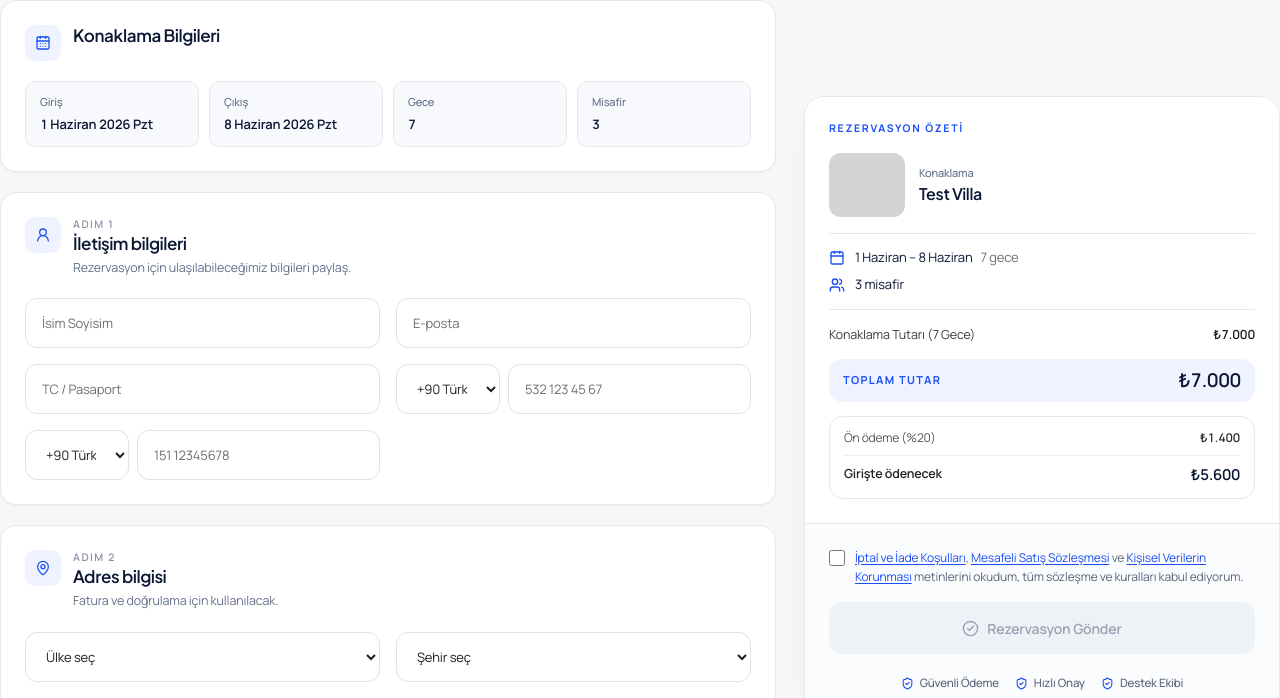
Test: 4) Hata mesajı — MEVCUT inline banner kullanılır › 4d) onay verilince uyarı kendiliğinden kalkar
Step 1. Type "Ahmet Yılmaz" into the field with placeholder "İsim Soyisim" → (202, 323), box [25,298,380,348]
Step 2. Type "test@example.com" into the field with placeholder "E-posta" → (574, 323), box [396,298,751,348]
Step 3. Type "5551112233" into the field with placeholder "532 123 45 67" → (630, 389), box [508,364,751,414]
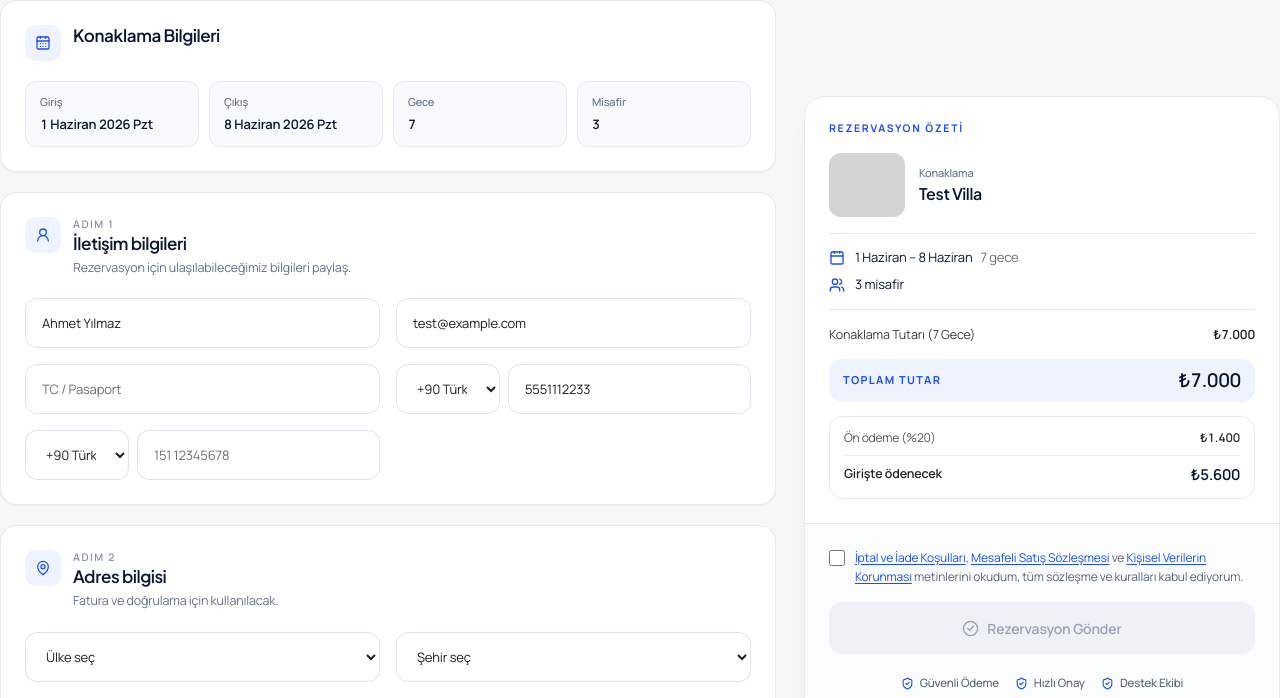
Step 4. Type "5559998877" into the field with placeholder "151 12345678" → (258, 455), box [137,430,380,480]
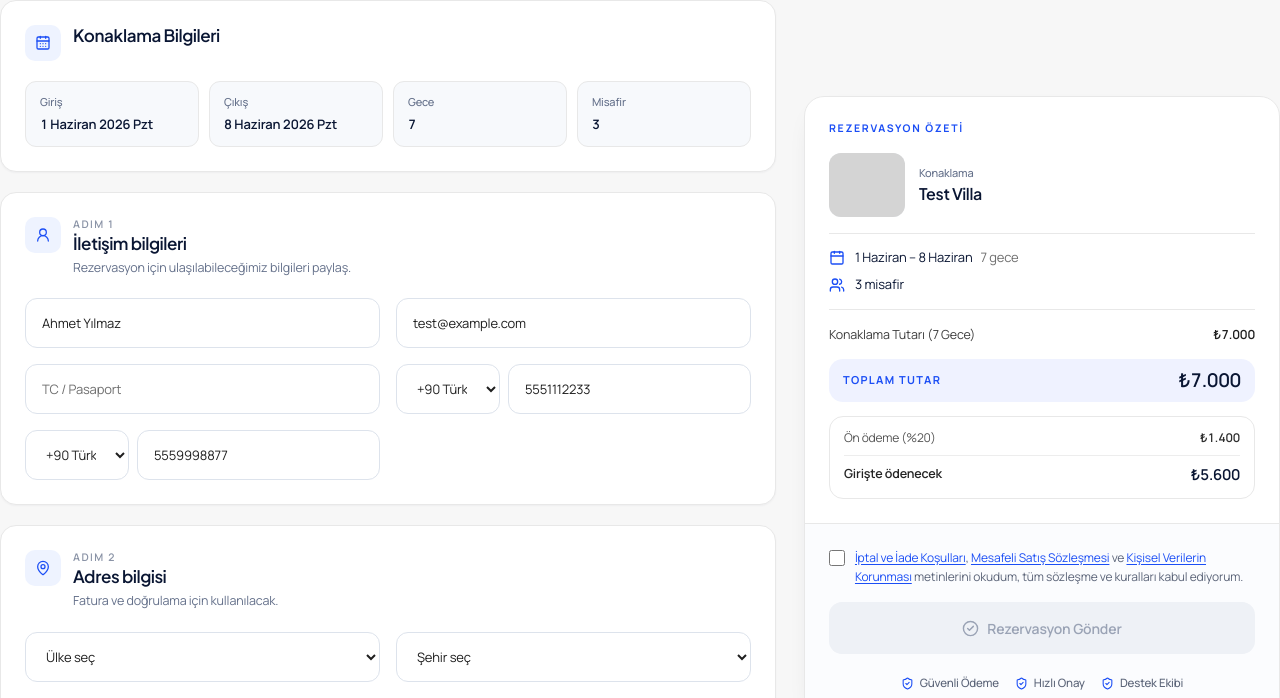
Step 5. Type "12345678901" into the field with placeholder "TC / Pasaport" → (202, 389), box [25,364,380,414]
(page scrolled)
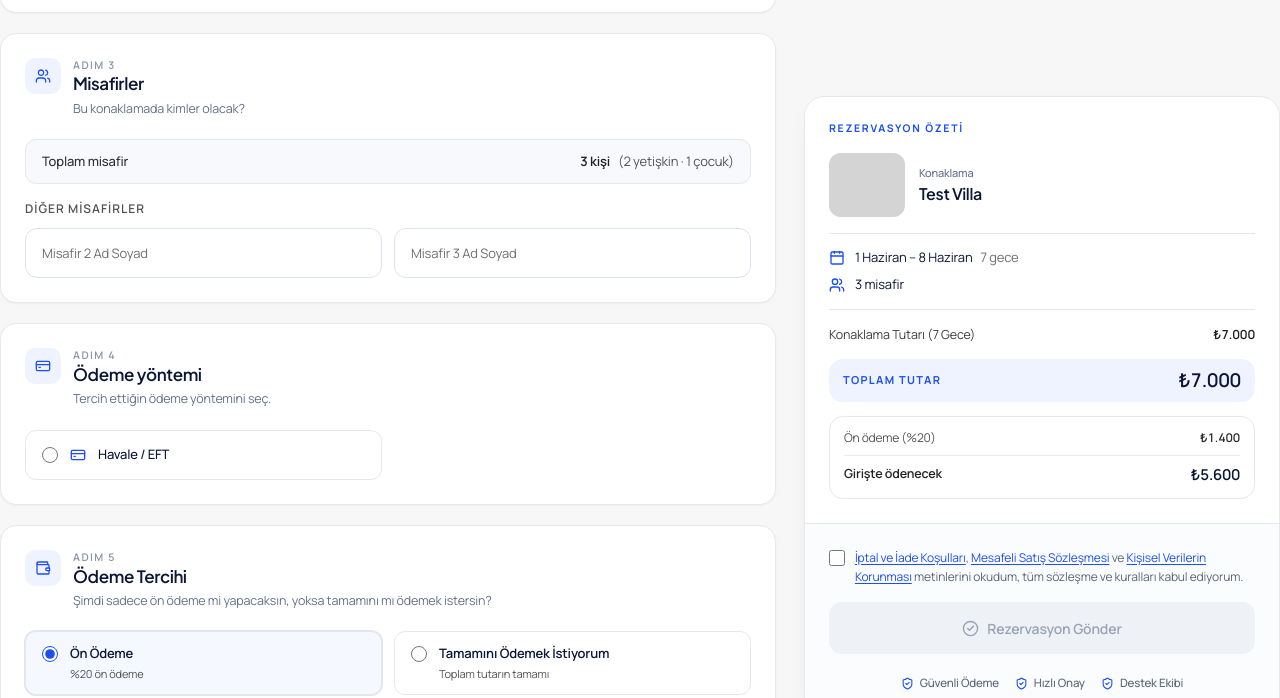
Step 6. Click the radio button labelled "Havale / EFT" → (50, 455), box [42,447,58,463]
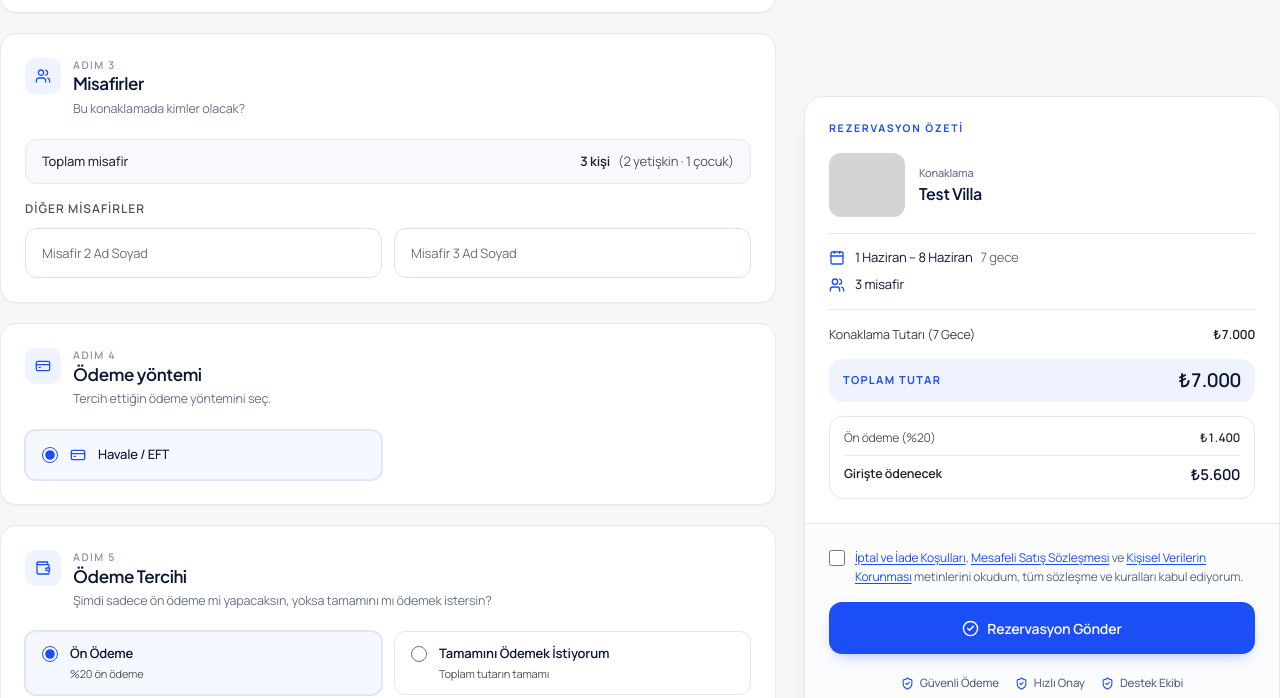
Step 7. Click the button "Rezervasyon Gönder" → (1042, 628), box [829,602,1255,654]
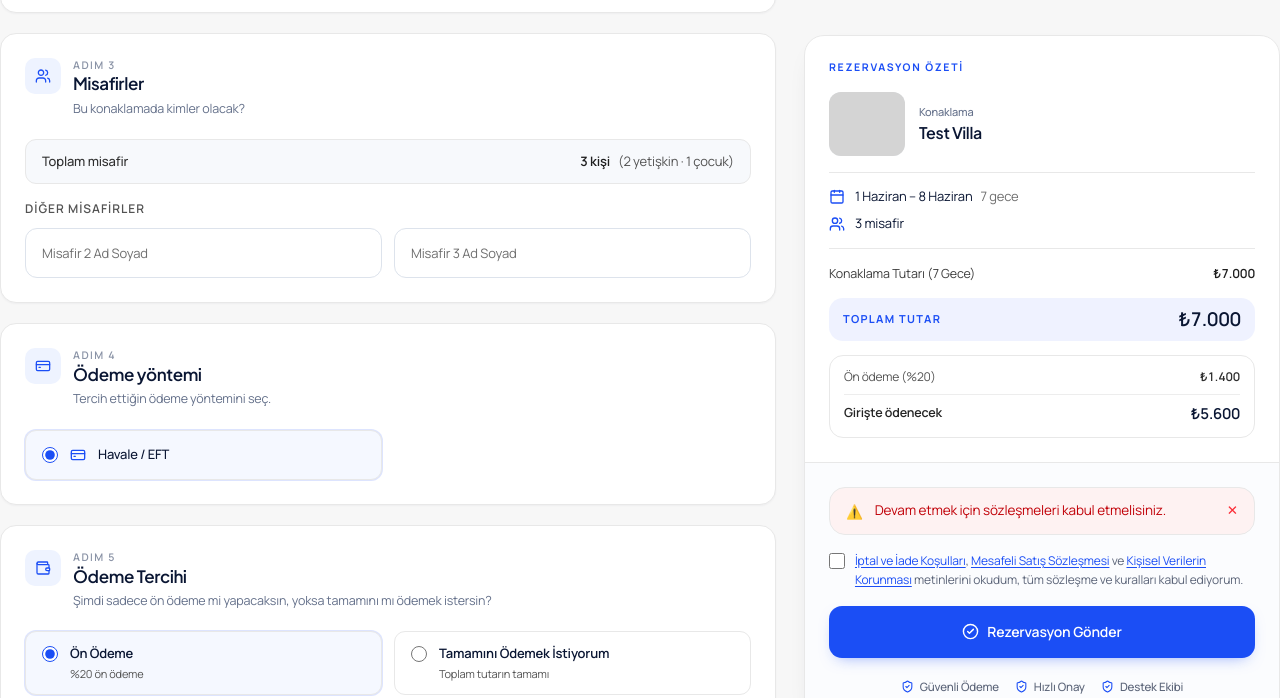
Expected: the text "Devam etmek için sözleşmeleri kabul etmelisiniz." is shown, [875,500,1215,522]
Step 8. Click the checkbox with id "reservation-terms-accept" → (837, 561), box [829,553,845,569]
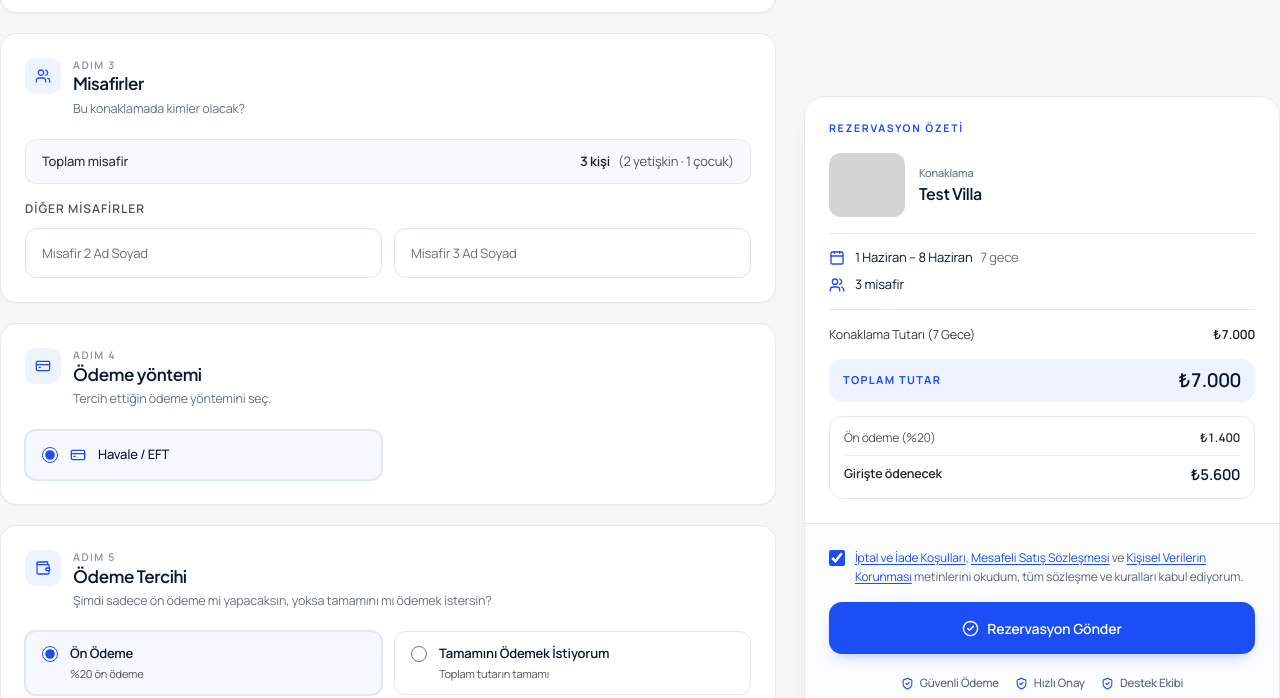
Expected: the text "Devam etmek için sözleşmeleri kabul etmelisiniz." is gone
